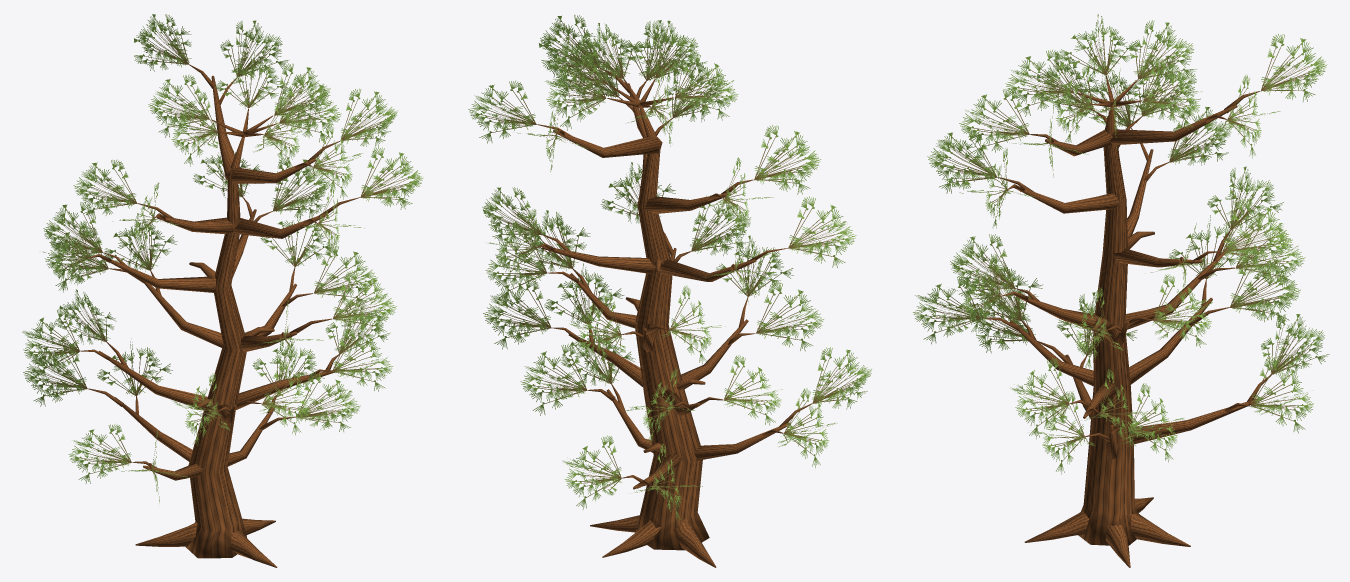
The model's file is WindsweptPine_LOD2.glb.
3 renders of one model, left to right at view 1: azimuth 30°, elevation 25°; view 2: azimuth 150°, elevation 25°; view 3: azimuth 270°, elevation 25°, orthographic. The views are drawn at different scales.
Parts seen in each view (by area): view 1: SM_WindsweptPine_Foliage_LOD2, SM_WindsweptPine_Bark_LOD2; view 2: SM_WindsweptPine_Foliage_LOD2, SM_WindsweptPine_Bark_LOD2; view 3: SM_WindsweptPine_Foliage_LOD2, SM_WindsweptPine_Bark_LOD2.
Part boxes in pixels (<box>): SM_WindsweptPine_Foliage_LOD2: <box>22,14,423,502</box>; SM_WindsweptPine_Bark_LOD2: <box>80,64,359,567</box>; SM_WindsweptPine_Foliage_LOD2: <box>468,15,871,521</box>; SM_WindsweptPine_Bark_LOD2: <box>536,67,811,567</box>; SM_WindsweptPine_Foliage_LOD2: <box>913,14,1329,474</box>; SM_WindsweptPine_Bark_LOD2: <box>981,76,1271,567</box>.
Bounding box in the file's own units: 7.28 × 9.33 × 7.05.
Materials: 2 (2 with a texture image).
